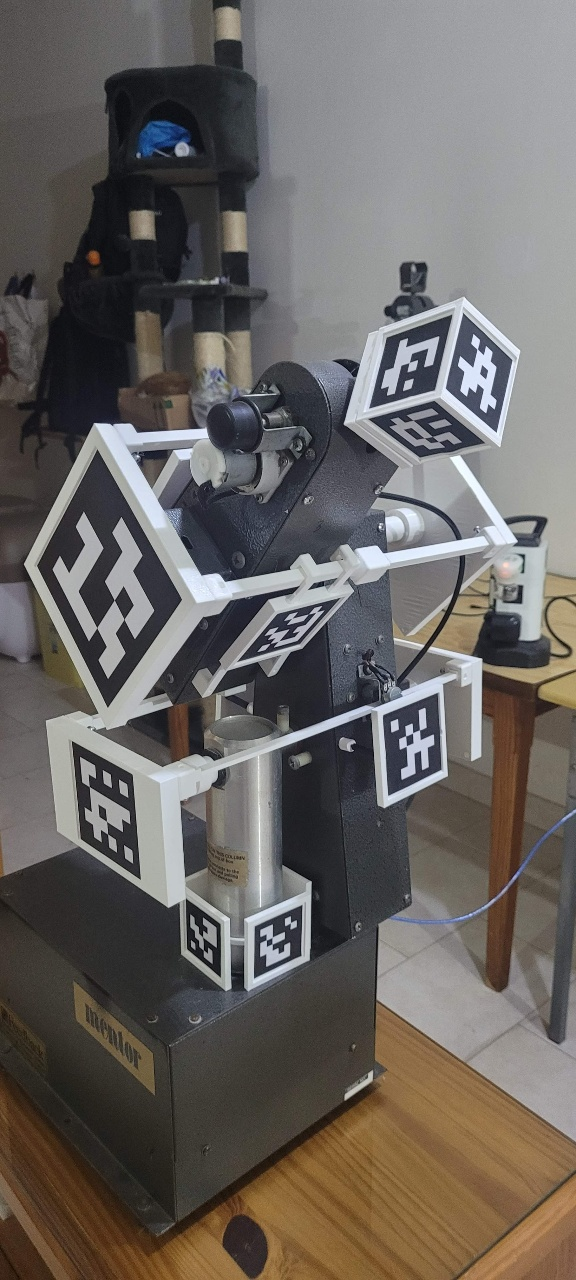Robot: (42, 282, 562, 1041)
